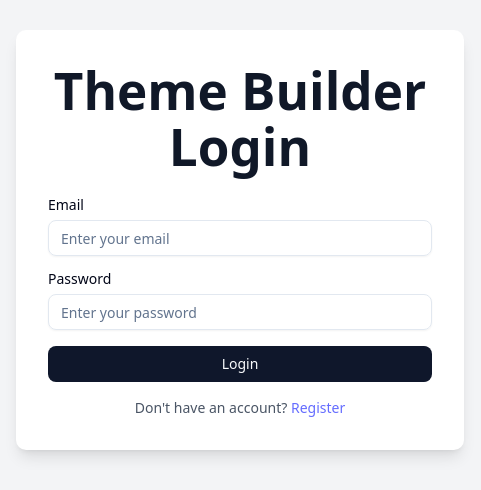
Test: LoginForm › Form Validation › clears password error when user starts typing
The width and height of the screenshot is (481, 490).
Fill email and trigger validation
Type "test@example.com" into the field labelled "Email" at (240, 238), box 48,220 -> 432,256
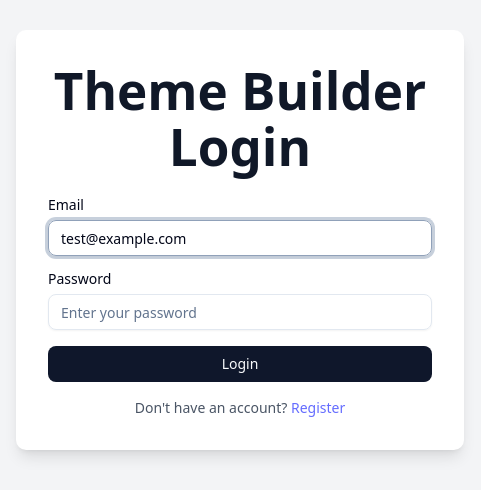
Click the button "Login" at (240, 364), box 48,346 -> 432,382
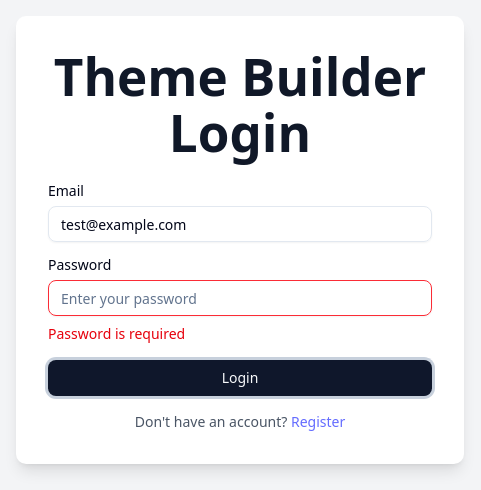
Expected: the text "Password is required" is shown, 48,324 -> 185,343
Start typing in password field
Type "p" into the password field labelled "Password" at (240, 298), box 48,280 -> 432,316
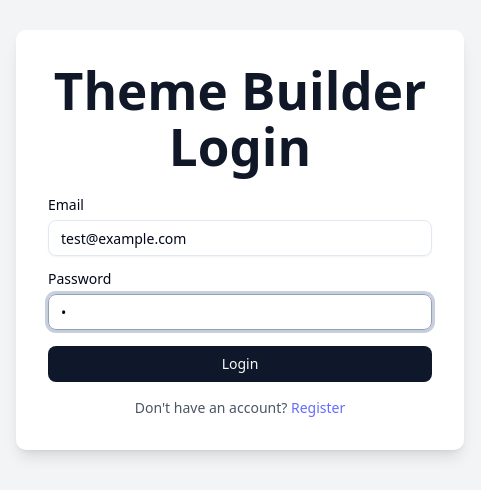
Expected: the text "Password is required" is gone
